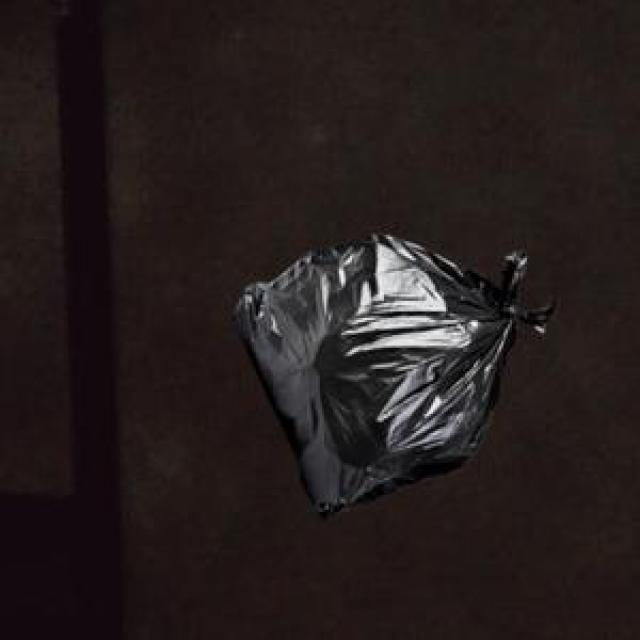waste: (235, 235, 550, 511)
